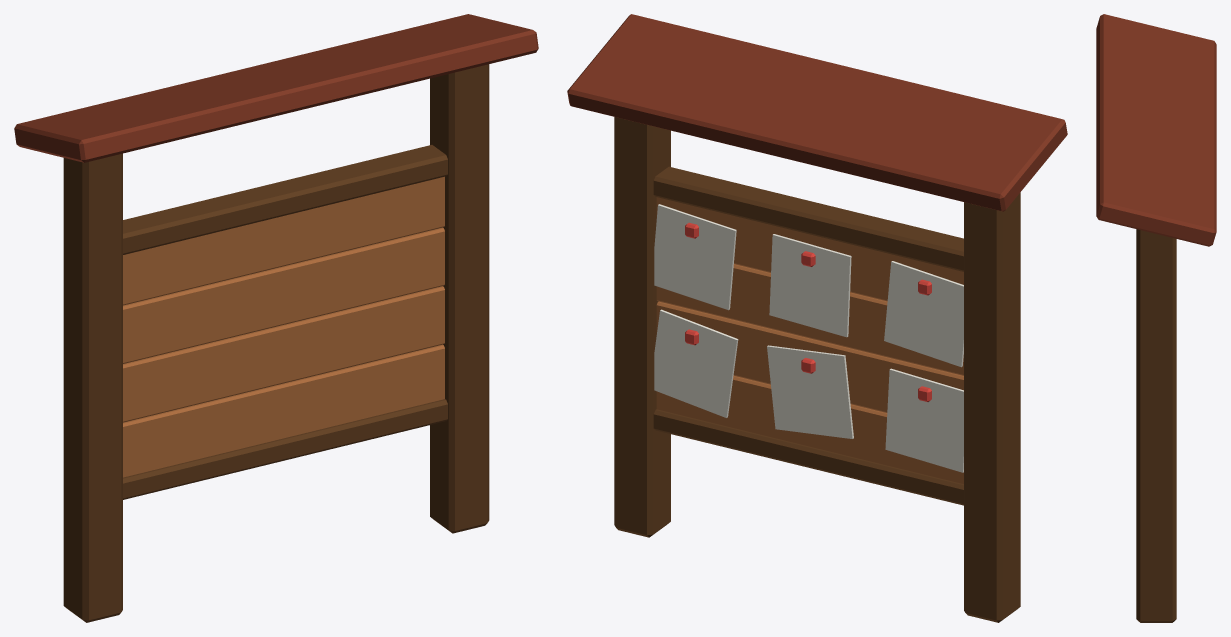
File: QuestBoard.fbx
The picture shows the model from 3 angles, left to right: view 1: azimuth 30°, elevation 25°; view 2: azimuth 150°, elevation 25°; view 3: azimuth 270°, elevation 25°; orthographic projection. The views are drawn at different scales.
Parts seen in each view (by area): view 1: Board, Post, Roof; view 2: Post, Roof, Note, Board, Pin; view 3: Roof, Post.
Part boxes in pixels (x1=…): Board: x1=123, y1=176, x2=444, y2=477; Post: x1=63, y1=64, x2=489, y2=622; Roof: x1=14, y1=14, x2=538, y2=162; Post: x1=614, y1=117, x2=1020, y2=622; Roof: x1=567, y1=14, x2=1067, y2=211; Note: x1=654, y1=204, x2=963, y2=472; Board: x1=656, y1=197, x2=963, y2=483; Pin: x1=685, y1=222, x2=931, y2=401; Roof: x1=1096, y1=14, x2=1216, y2=246; Post: x1=1136, y1=229, x2=1176, y2=622.
Bounding box in the file's own units: 9 × 9.49 × 2.39.
